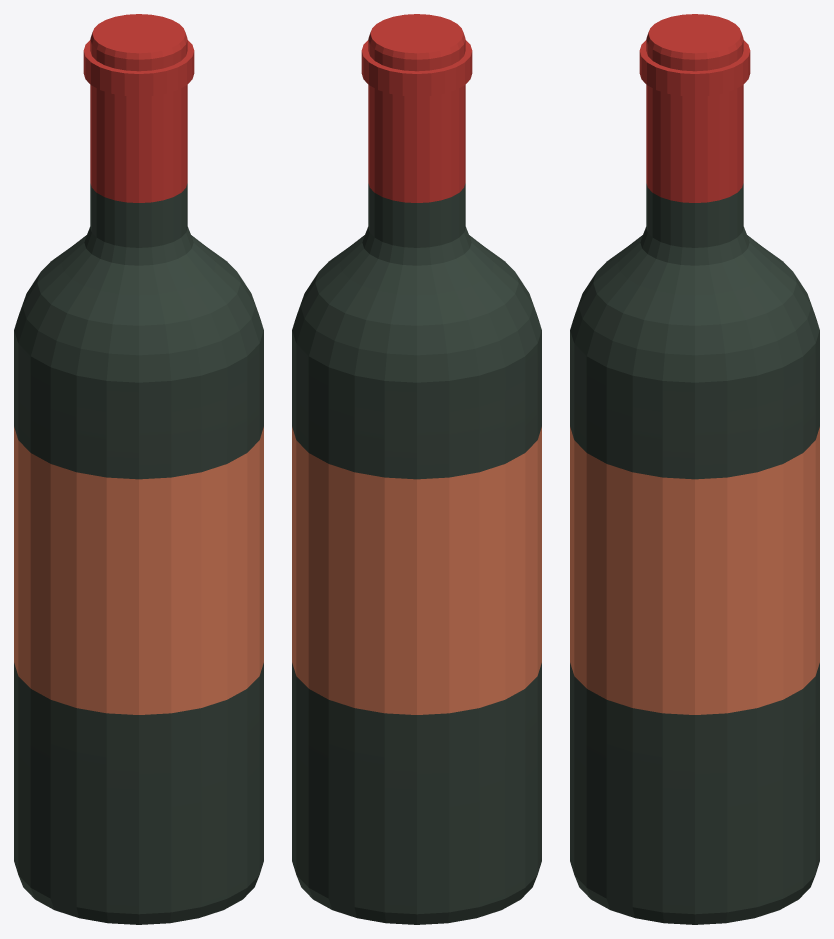
Rendered from Wine_01.fbx.
3 renders of one model, left to right at view 1: azimuth 30°, elevation 25°; view 2: azimuth 150°, elevation 25°; view 3: azimuth 270°, elevation 25°, orthographic.
Visible parts, largest first — view 1: Wine_01; view 2: Wine_01; view 3: Wine_01.
Part boxes in pixels (x1=…): Wine_01: x1=14, y1=14, x2=263, y2=924; Wine_01: x1=292, y1=14, x2=541, y2=924; Wine_01: x1=570, y1=14, x2=819, y2=924.
Bounding box in the file's own units: 8.91 × 33.07 × 8.91.
